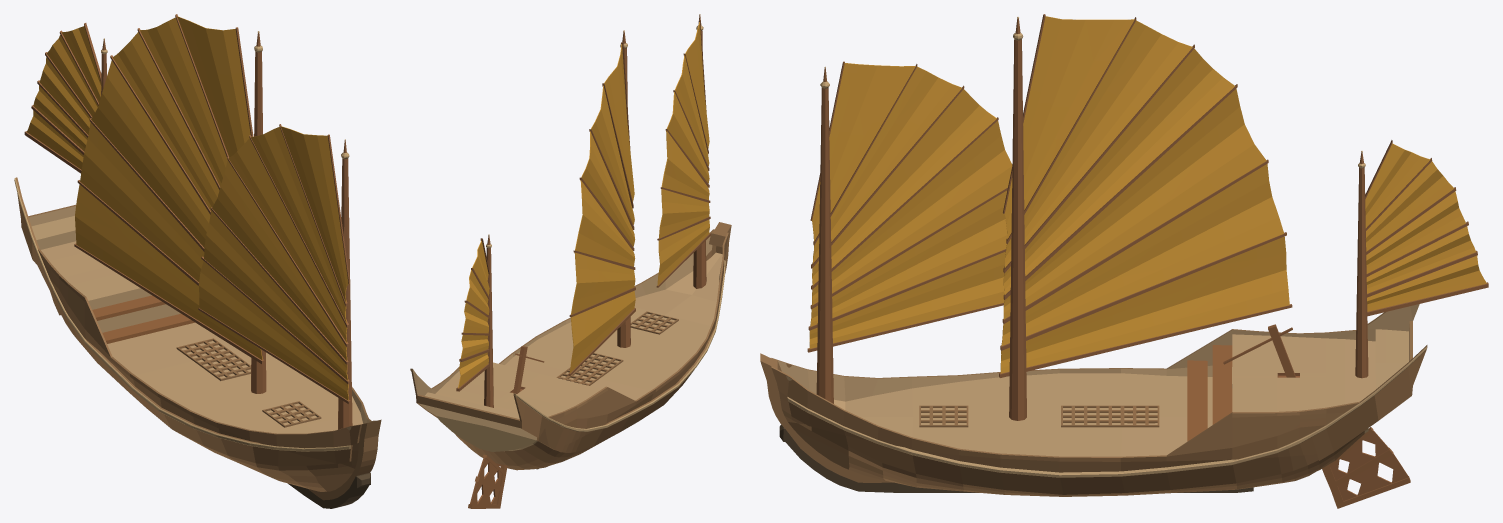
File: junkie.obj
The picture shows the model from 3 angles, left to right: view 1: azimuth 30°, elevation 25°; view 2: azimuth 150°, elevation 25°; view 3: azimuth 270°, elevation 25°; orthographic projection. The views are drawn at different scales.
Parts seen in each view (by area): view 1: Sail, Body, Mast; view 2: Body, Sail, Mast; view 3: Sail, Body, Mast.
Boxes of the visible parts, x1,y1,x2,y2 form: Sail: (27, 16, 348, 400); Body: (14, 177, 381, 508); Mast: (24, 14, 352, 429); Body: (410, 222, 731, 508); Sail: (458, 22, 709, 388); Mast: (456, 14, 710, 407); Sail: (809, 16, 1486, 373); Body: (760, 304, 1427, 508); Mast: (807, 14, 1488, 420).
Bounding box in the file's own units: 1.44 × 3.67 × 4.94.
Materials: 1 (1 with a texture image).
